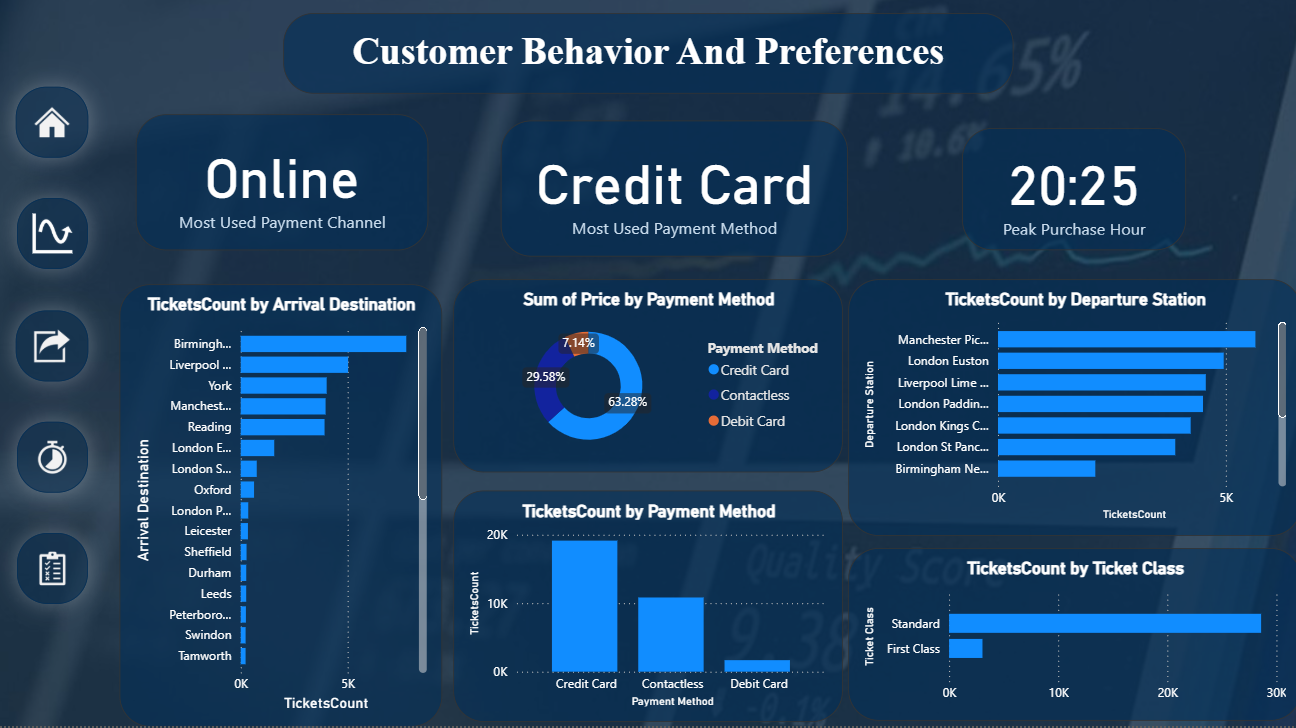

What the dashboard file says about the page in this screenshot:
{"tool":"powerbi","page":{"name":"Customer Behavior & Preferences ","canvas":[1280,720],"ordinal":2},"visuals":[{"type":"card","fields":{"Values":["_measure.Most Used Payment Method"]},"box":[135.7,118.6,287.4,133.3],"z":0},{"type":"card","fields":{"Values":["_measure.Peak Purchase Hour"]},"box":[947.7,132.1,220.1,119.8],"z":1000},{"type":"clusteredColumnChart","fields":{"Category":["Ticket Table.Payment Method"],"Y":["_measure.TicketsCount"]},"box":[447.6,487.9,382.7,227.4],"z":2000},{"type":"donutChart","fields":{"Category":["Passenger Table.Payment Method"],"Y":["Sum(Ticket Table.Price)"]},"box":[447.6,281.3,382.7,189.5],"z":3000},{"type":"clusteredBarChart","fields":{"Category":["Journey Table.Departure Station"],"Y":["_measure.TicketsCount"]},"box":[835.2,281.3,445.1,251.9],"z":4000},{"type":"clusteredBarChart","fields":{"Category":["Journey Table.Arrival Destination"],"Y":["_measure.TicketsCount"]},"box":[119.8,286.1,316.7,434.1],"z":5000},{"type":"clusteredBarChart","fields":{"Category":["Ticket Table.Ticket Class"],"Y":["_measure.TicketsCount"]},"box":[835.2,545.4,445.1,170],"z":6000},{"type":"card","fields":{"Values":["_measure.Most Used Payment Method"]},"box":[494,125.3,341.2,133.3],"z":7000},{"type":"textbox","title":" Customer Impact on delay and refund","box":[281.3,19.6,716.6,79.5],"z":8000},{"type":"image","box":[19.4,201.6,69.7,69.7],"z":9000},{"type":"image","box":[18.8,311.1,70.9,69.7],"z":10000},{"type":"image","box":[19.4,420.5,69.7,69.7],"z":11000},{"type":"image","box":[19.4,530,69.7,69.7],"z":12000},{"type":"image","box":[18.8,92.2,70.9,69.7],"z":13000}]}

Visuals, with their boxes in screenshot pixels (x1, y1, x2, y2), scaled from the page's 1280x720 canvas onto the 1296x728 screenshot:
card - _measure.Most Used Payment Method: bbox=(137, 120, 428, 255)
card - _measure.Peak Purchase Hour: bbox=(960, 134, 1182, 255)
clusteredColumnChart - Ticket Table.Payment Method x _measure.TicketsCount: bbox=(453, 493, 841, 723)
donutChart - Passenger Table.Payment Method x Sum(Ticket Table.Price): bbox=(453, 284, 841, 476)
clusteredBarChart - Journey Table.Departure Station x _measure.TicketsCount: bbox=(846, 284, 1295, 539)
clusteredBarChart - Journey Table.Arrival Destination x _measure.TicketsCount: bbox=(121, 289, 442, 727)
clusteredBarChart - Ticket Table.Ticket Class x _measure.TicketsCount: bbox=(846, 551, 1295, 723)
card - _measure.Most Used Payment Method: bbox=(500, 127, 846, 261)
" Customer Impact on delay and refund" textbox: bbox=(285, 20, 1010, 100)
image: bbox=(20, 204, 90, 274)
image: bbox=(19, 315, 91, 385)
image: bbox=(20, 425, 90, 496)
image: bbox=(20, 536, 90, 606)
image: bbox=(19, 93, 91, 164)
